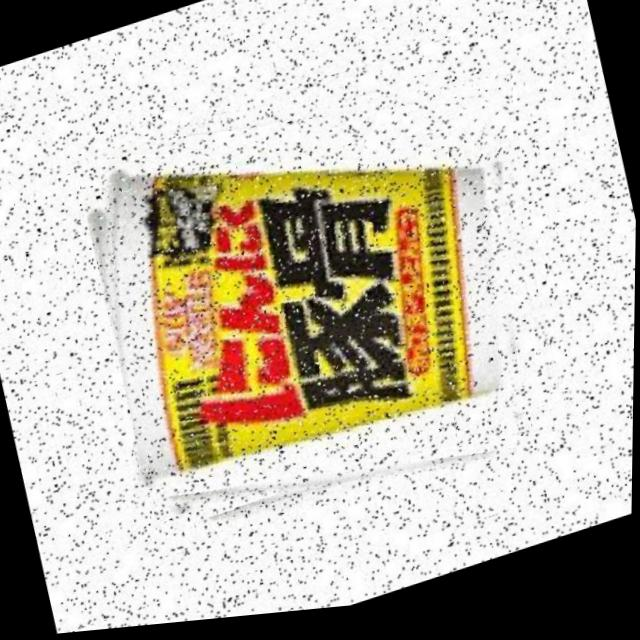Miscellaneous: (68, 27, 578, 568)
